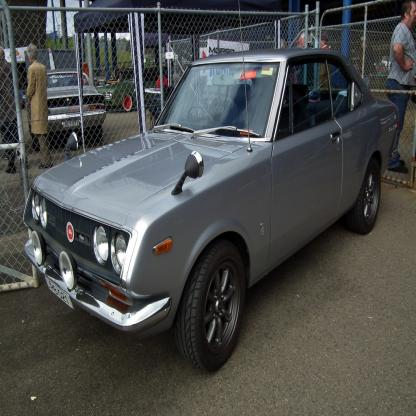Car: (24, 1, 402, 378)
